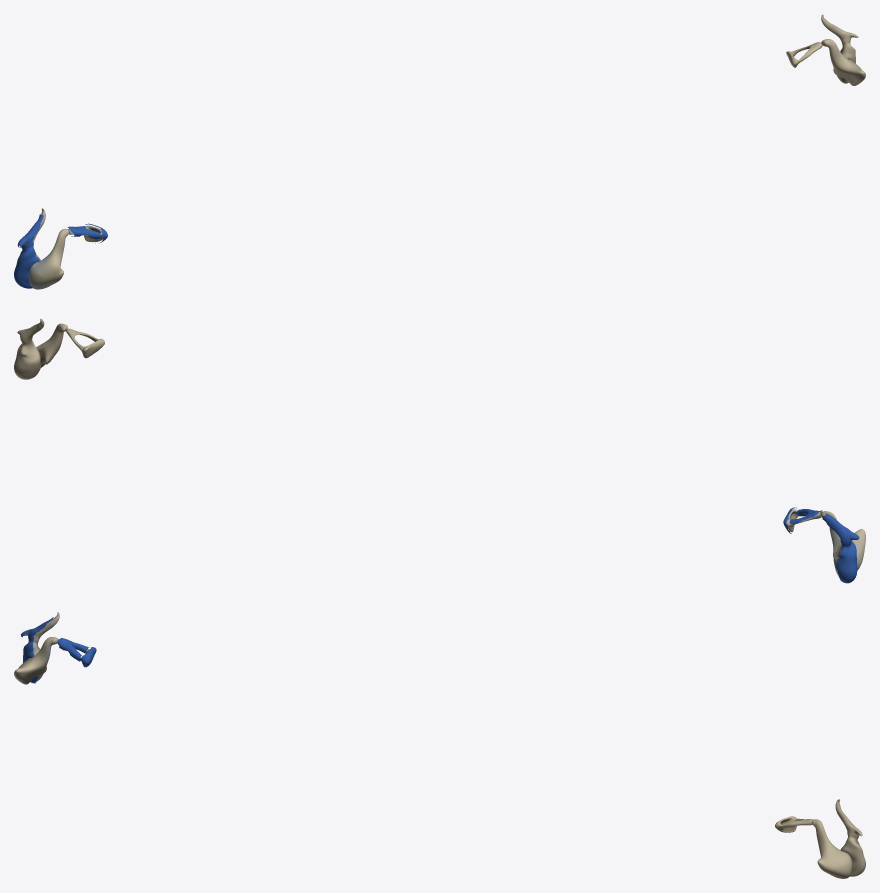
The model's file is ossicula-auditus.glb.
3 renders of one model, top to bottom at view 1: azimuth 30°, elevation 25°; view 2: azimuth 150°, elevation 25°; view 3: azimuth 330°, elevation 25°, orthographic.
Parts seen in each view (by area): view 1: ossicula-auditus__incus, insertio__malleus__m-tensor-tympani, MOD_incus_l, MOD_malleus_l; view 2: insertio__malleus__m-tensor-tympani, MOD_malleus_l, MOD_incus_l; view 3: MOD_incus_l, MOD_malleus_l, ossicula-auditus__incus, insertio__stapes__m-stapedius.
Part boxes in pixels (box(x1,y1,x2,y2)): ossicula-auditus__incus: box(29, 229, 68, 289); insertio__malleus__m-tensor-tympani: box(14, 214, 43, 288); MOD_incus_l: box(821, 39, 865, 85); MOD_malleus_l: box(821, 14, 858, 83); insertio__malleus__m-tensor-tympani: box(822, 513, 859, 583); MOD_malleus_l: box(14, 318, 44, 379); MOD_incus_l: box(36, 323, 67, 367); MOD_incus_l: box(812, 819, 852, 878); MOD_malleus_l: box(835, 799, 865, 876); ossicula-auditus__incus: box(14, 637, 58, 684); insertio__stapes__m-stapedius: box(57, 638, 96, 667).
Bounding box in the file's own units: 103 × 8.6 × 7.03.
